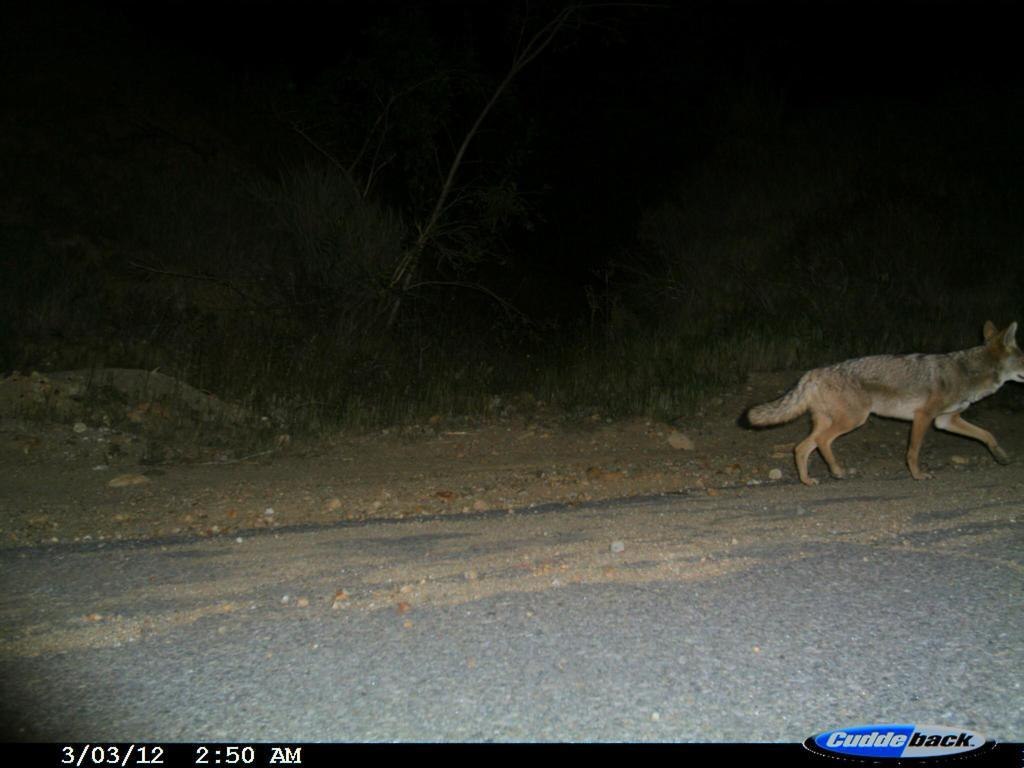coyote: (740, 317, 1023, 491)
